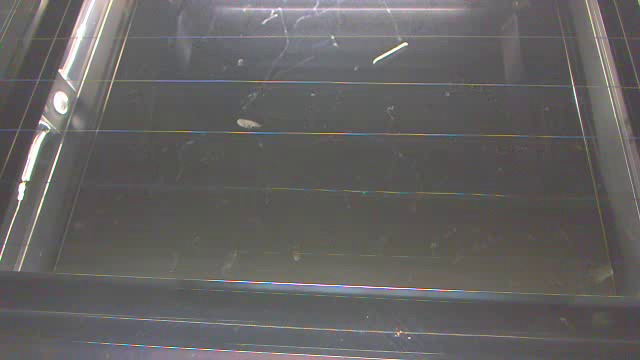alpha: (371, 40, 410, 63), (237, 119, 263, 129)
